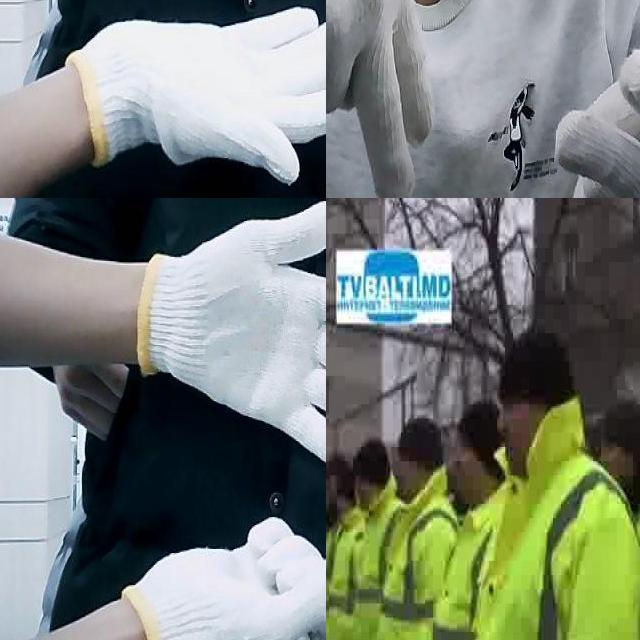GLOVE: (133, 198, 326, 480), (71, 5, 326, 187), (115, 516, 326, 640), (326, 0, 434, 198), (554, 49, 640, 198)
VEST: (453, 397, 640, 640), (361, 463, 461, 640), (426, 481, 511, 640), (344, 466, 404, 640), (326, 505, 368, 640)
